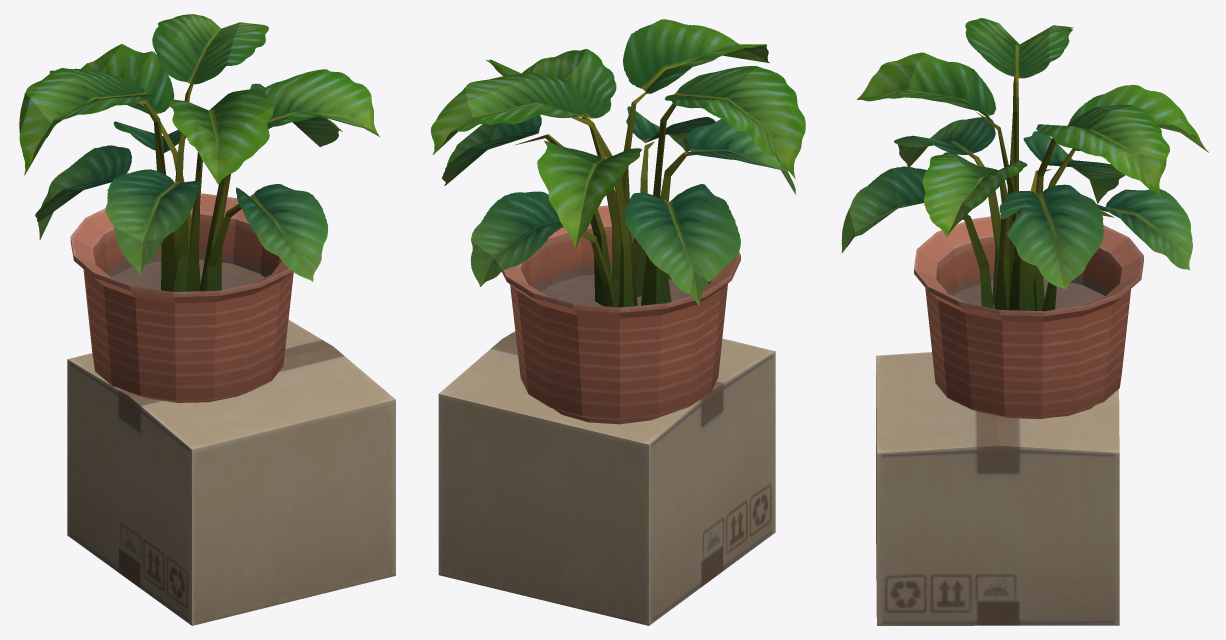
File: WarehouseManager_11.obj
The picture shows the model from 3 angles, left to right: view 1: azimuth 30°, elevation 25°; view 2: azimuth 150°, elevation 25°; view 3: azimuth 270°, elevation 25°; orthographic projection. The views are drawn at different scales.
Size of the model in its own units: 1.1 by 1.56 by 1.09.
3 materials, 3 textured.
